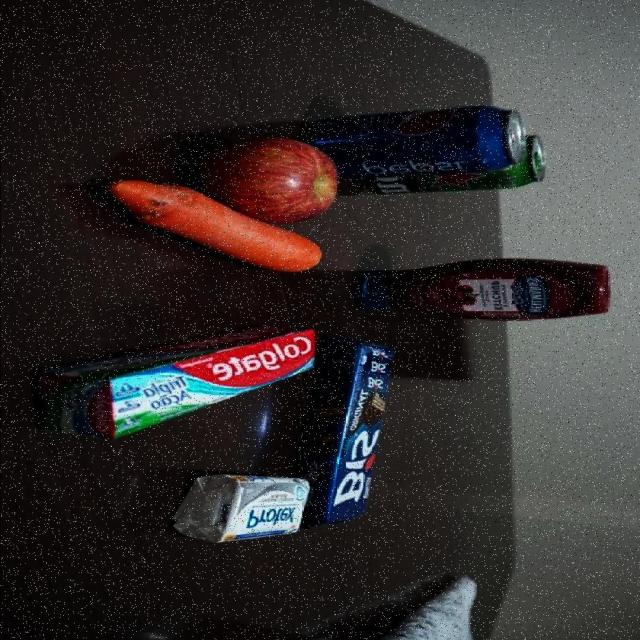Apple: (194, 138, 340, 214)
BeerCan: (362, 172, 547, 196)
Carrot: (132, 220, 324, 274)
Ketchup: (359, 268, 612, 321)
Soap: (177, 472, 306, 542)
SodaCan: (345, 108, 524, 171)
Toothpaste: (34, 323, 315, 439)
